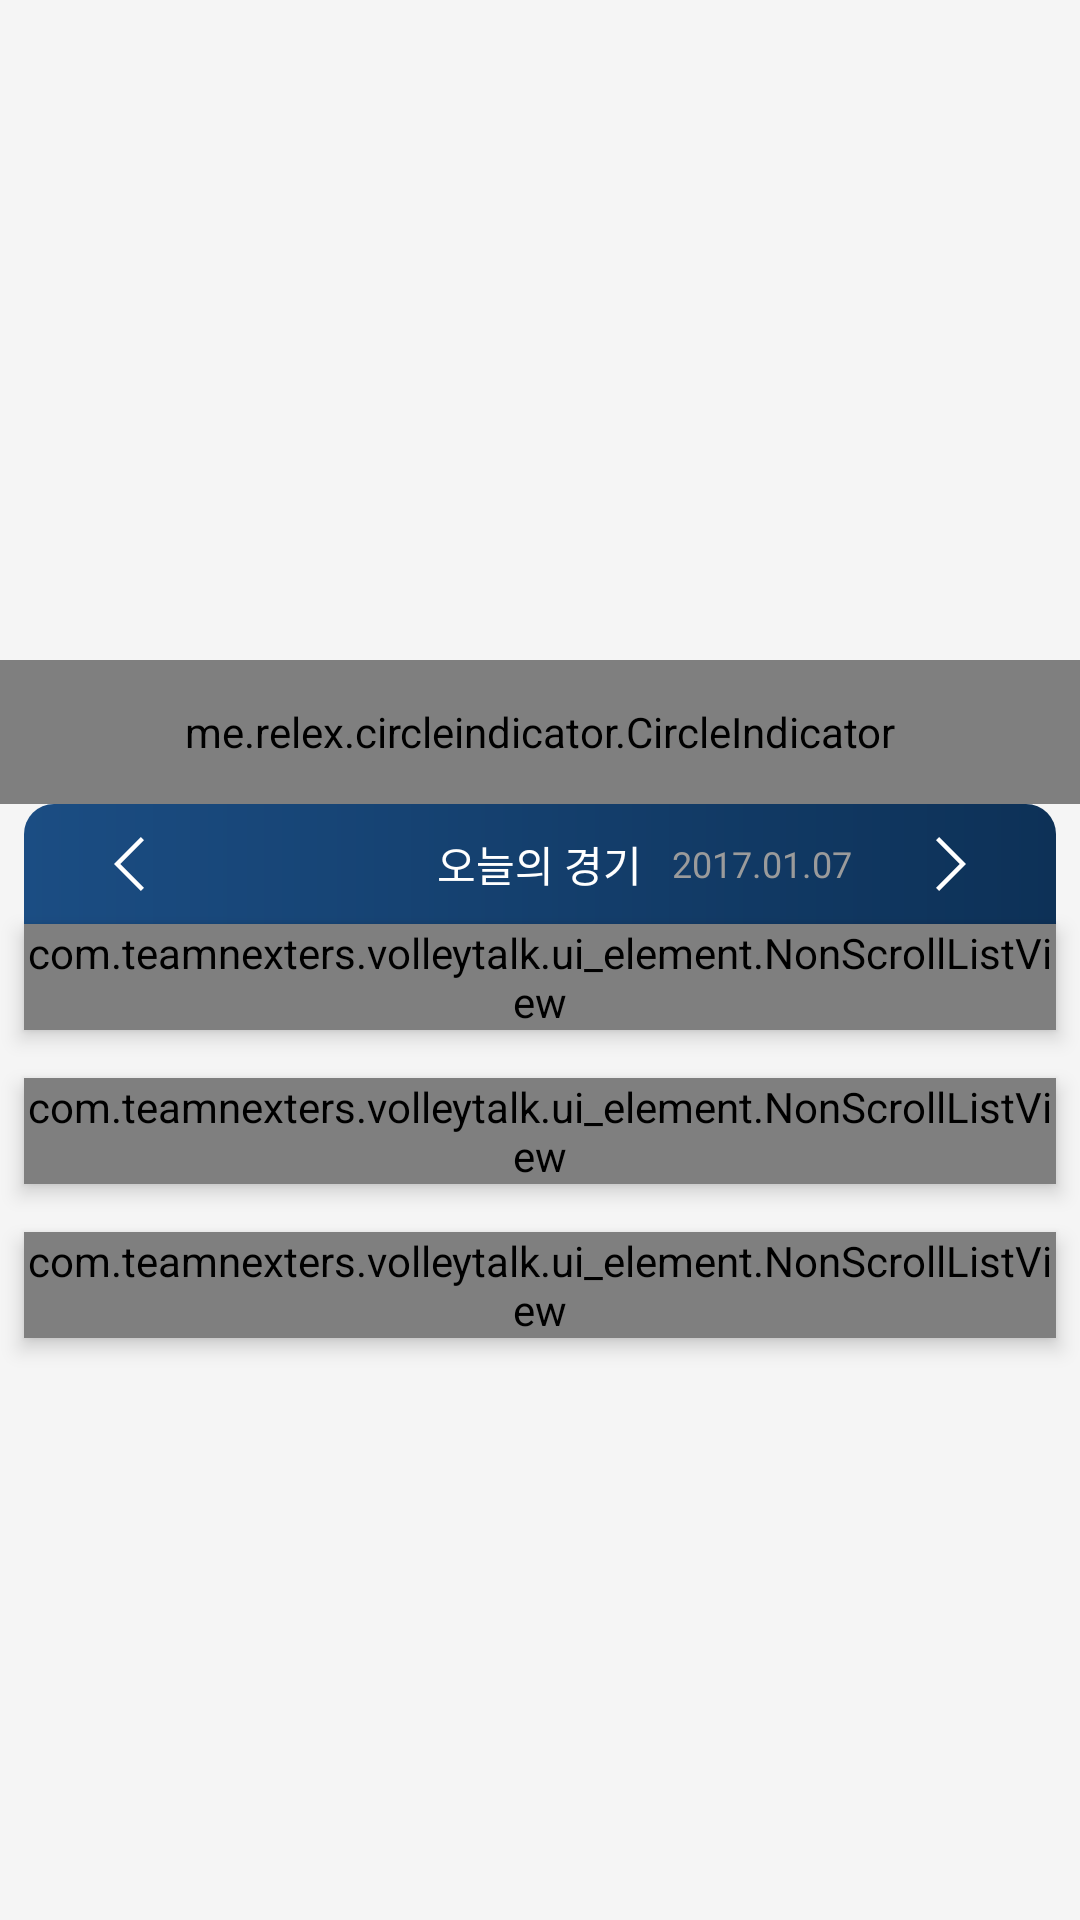

Icons on this 1080px x 1920px Android screen, each with its box as (x1, y1, x2, y2):
previous: (114, 837, 144, 891)
